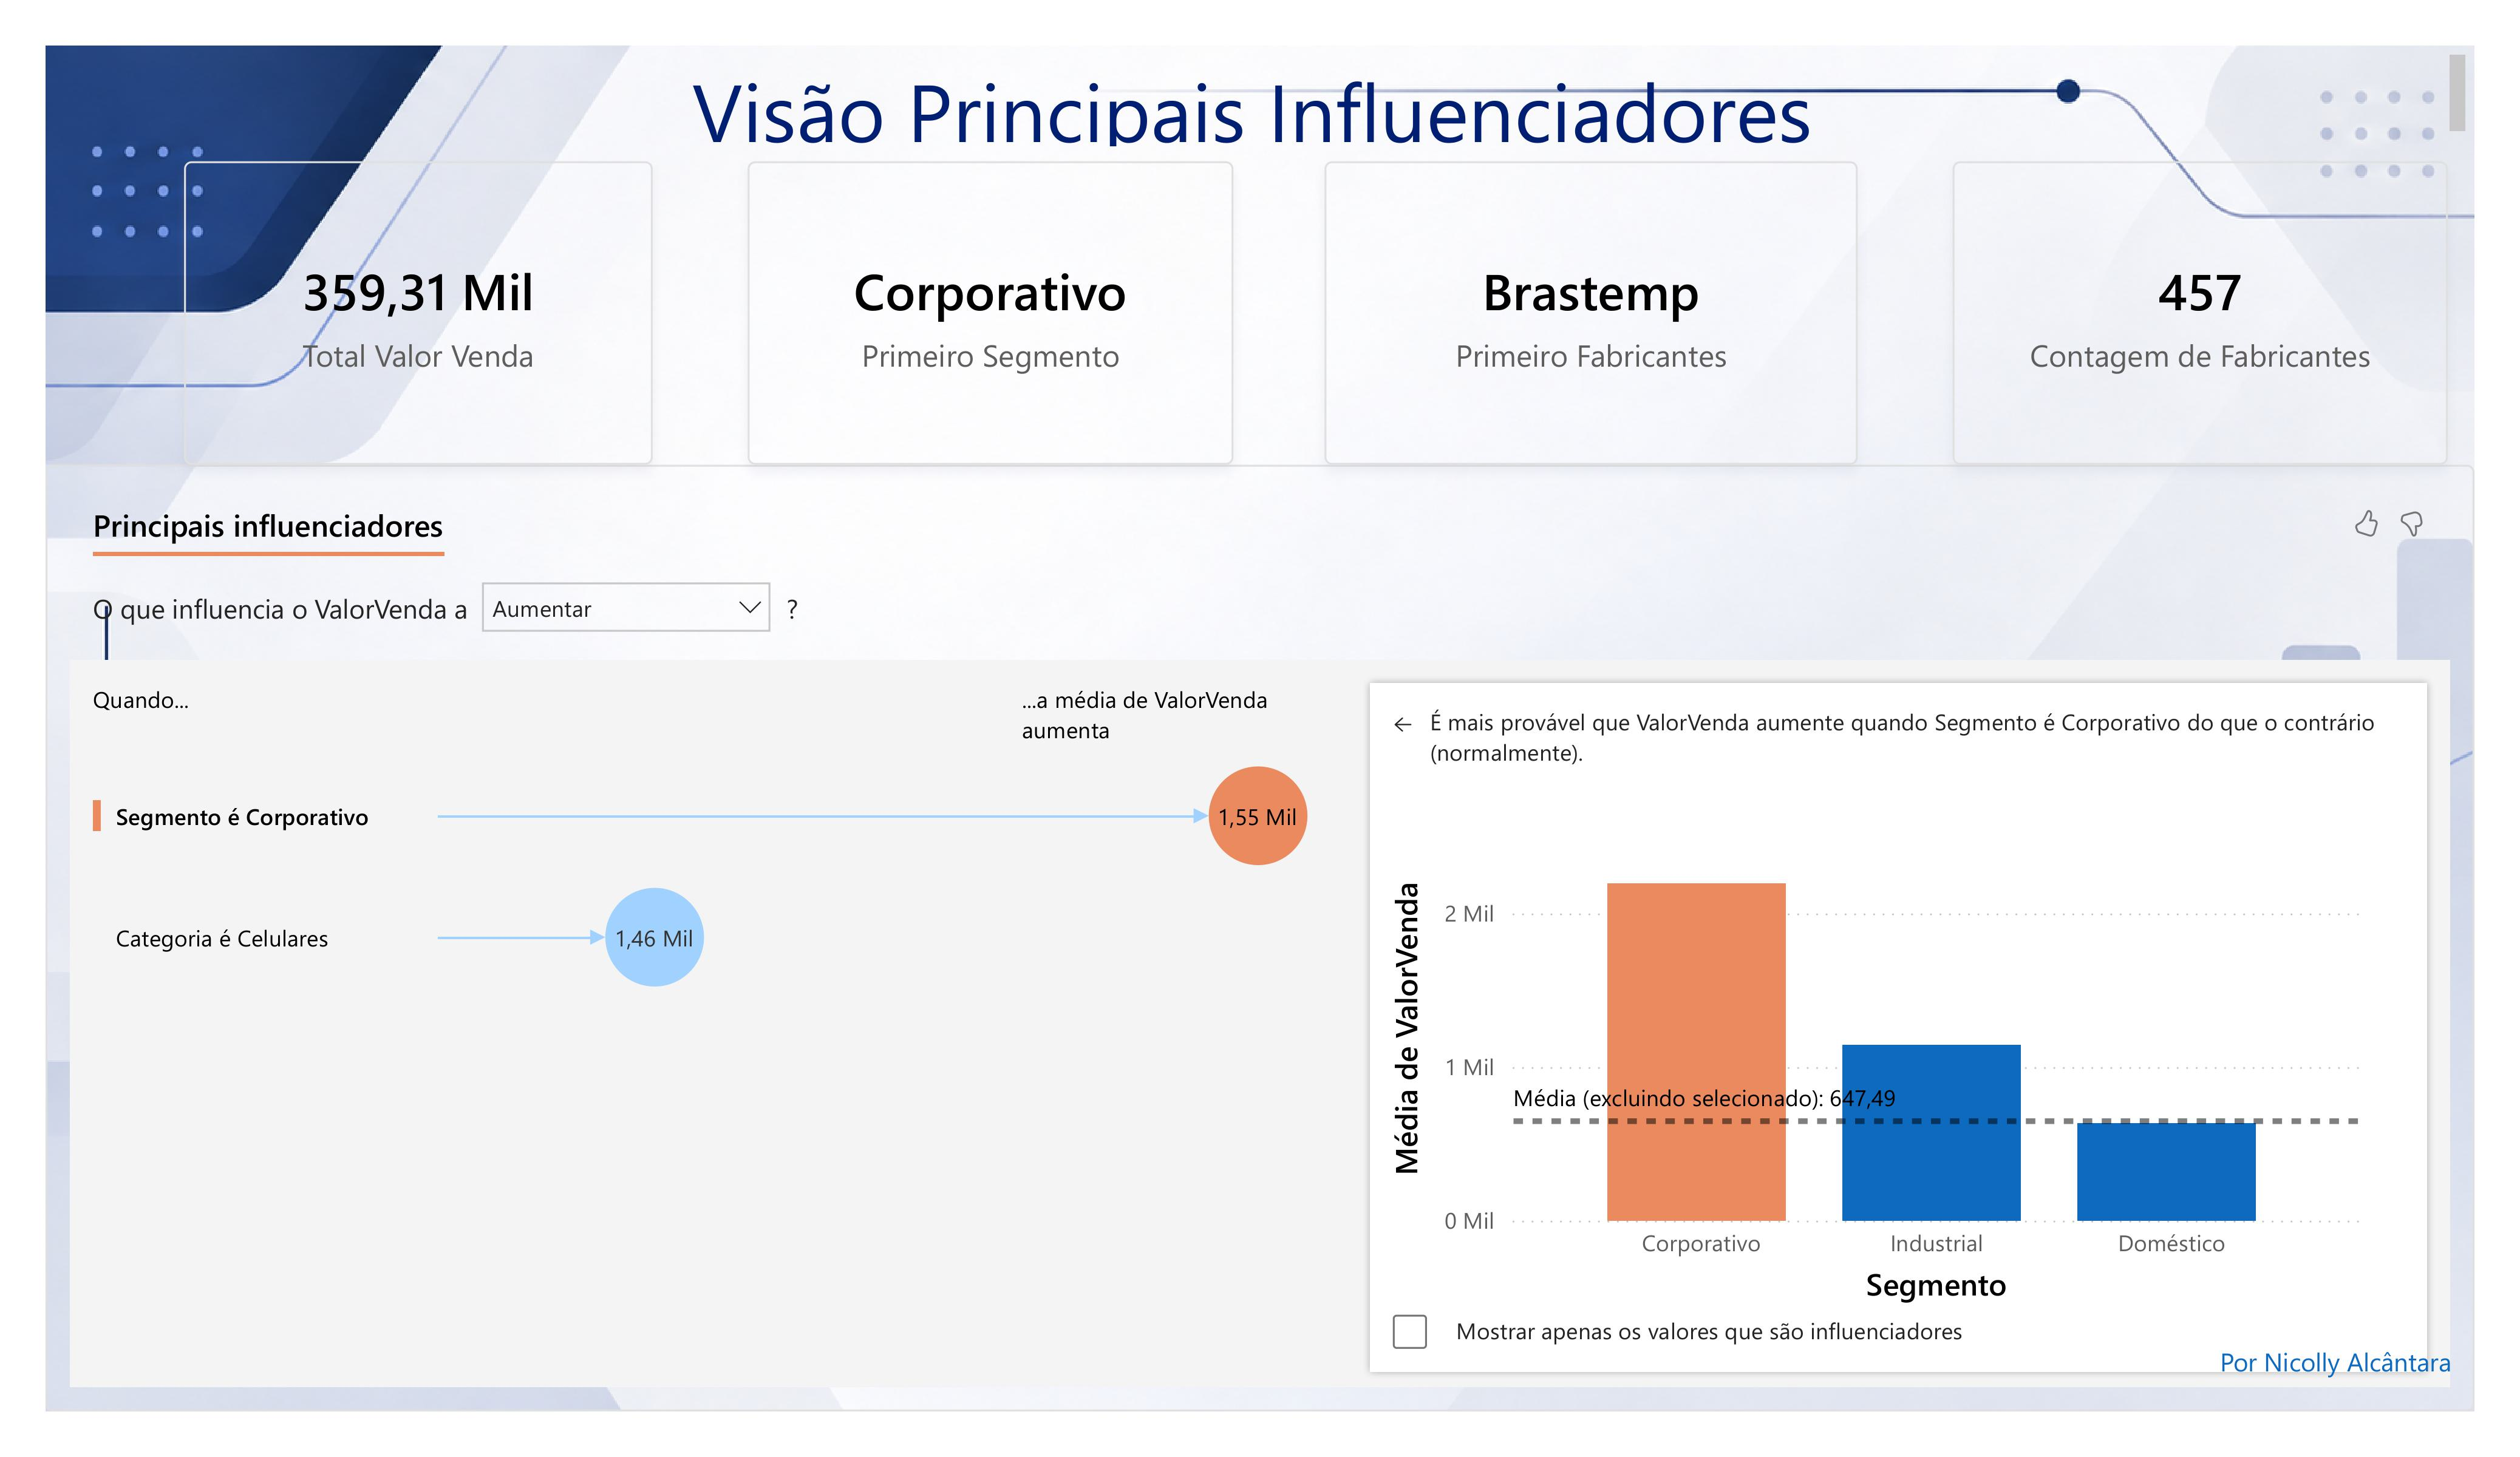

Layout of this report page (visuals, bound fields, positions):
{"tool":"powerbi","page":{"name":"Principais Influenciadores de Vendas","canvas":[1280,720],"ordinal":2},"visuals":[{"type":"keyDriversVisual","fields":{"Target":["Vendas.ValorVenda"],"ExplainBy":["Vendas.Segmento","Vendas.Categoria"]},"box":[0,220.9,1280.3,499.5],"z":0},{"type":"card","fields":{"Values":["Sum(Vendas.ValorVenda)"]},"box":[72.5,61.2,247.5,160],"z":1000},{"type":"card","fields":{"Values":["CountNonNull(Vendas.Fabricantes)"]},"box":[1005,61.2,261.2,160],"z":2000},{"type":"card","fields":{"Values":["Min(Vendas.Segmento)"]},"box":[370,61.2,256.2,160],"z":3000},{"type":"card","fields":{"Values":["Min(Vendas.Fabricantes)"]},"box":[673.8,61.2,281.2,160],"z":4000},{"type":"textbox","box":[0,0,1280,71.4],"z":5000},{"type":"textbox","box":[1141.4,680,138.6,40],"z":5001}]}

Visuals, with their boxes on the page's 1280x720 design canvas (x1, y1, x2, y2). These are canvas units, not pixel positions in the 2520x1457 screenshot, which may show the page scaled, cropped or inside an application window:
keyDriversVisual - Vendas.ValorVenda x Vendas.Segmento: [left=0, top=221, right=1280, bottom=720]
card - Sum(Vendas.ValorVenda): [left=72, top=61, right=320, bottom=221]
card - CountNonNull(Vendas.Fabricantes): [left=1005, top=61, right=1266, bottom=221]
card - Min(Vendas.Segmento): [left=370, top=61, right=626, bottom=221]
card - Min(Vendas.Fabricantes): [left=674, top=61, right=955, bottom=221]
textbox: [left=0, top=0, right=1280, bottom=71]
textbox: [left=1141, top=680, right=1280, bottom=720]
